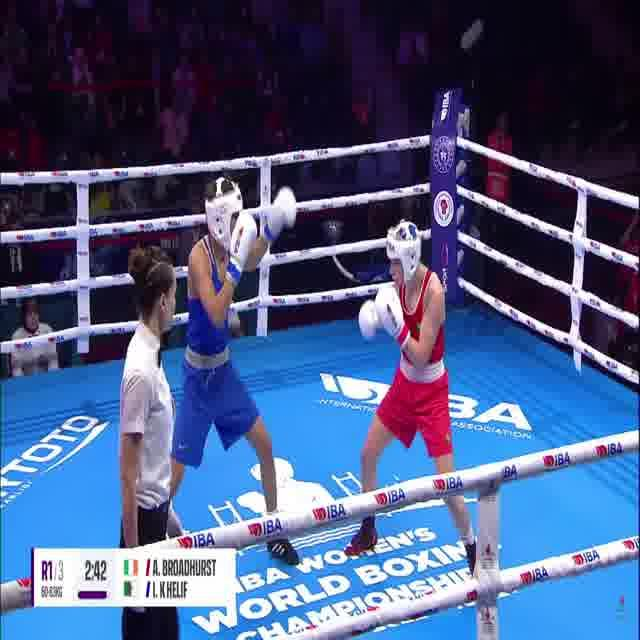blue-player: (144, 172, 302, 574)
red-player: (344, 215, 488, 593)
referee: (115, 240, 196, 640)
